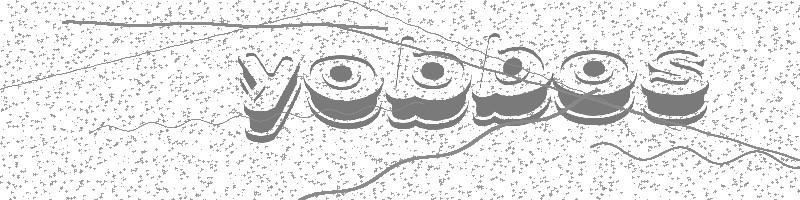b: (385, 35, 471, 133), (471, 33, 551, 133)
o: (552, 49, 641, 129), (303, 54, 388, 130)
s: (638, 43, 710, 125)
y: (228, 50, 302, 143)
